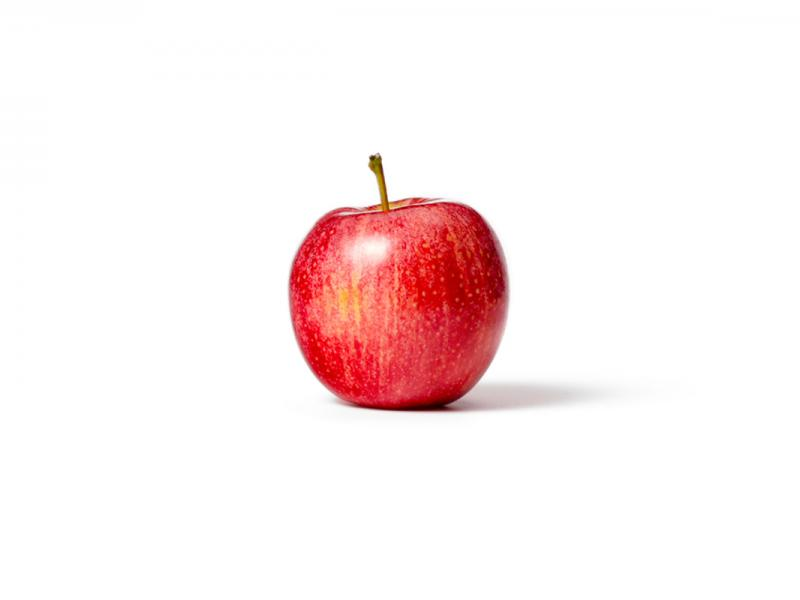elma: (291, 152, 507, 407)
